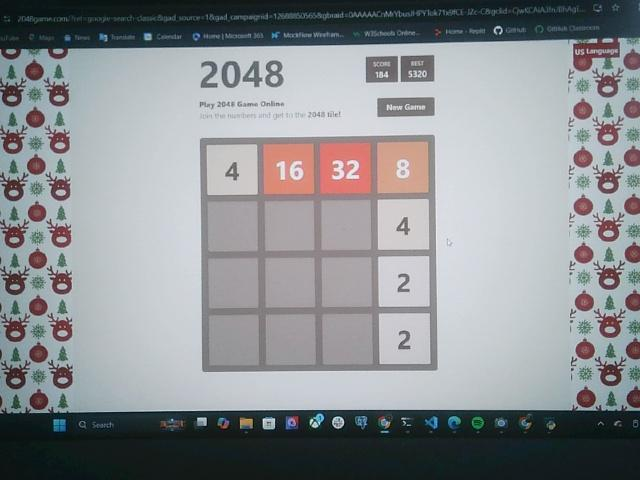best_score_box: (402, 55, 435, 81)
board: (202, 137, 435, 368)
button: (378, 97, 435, 117)
score_box: (366, 57, 398, 81)
tile: (262, 143, 314, 196), (320, 143, 372, 195), (378, 256, 430, 308), (379, 314, 431, 366), (377, 142, 428, 194), (378, 199, 430, 250), (208, 145, 258, 195)
